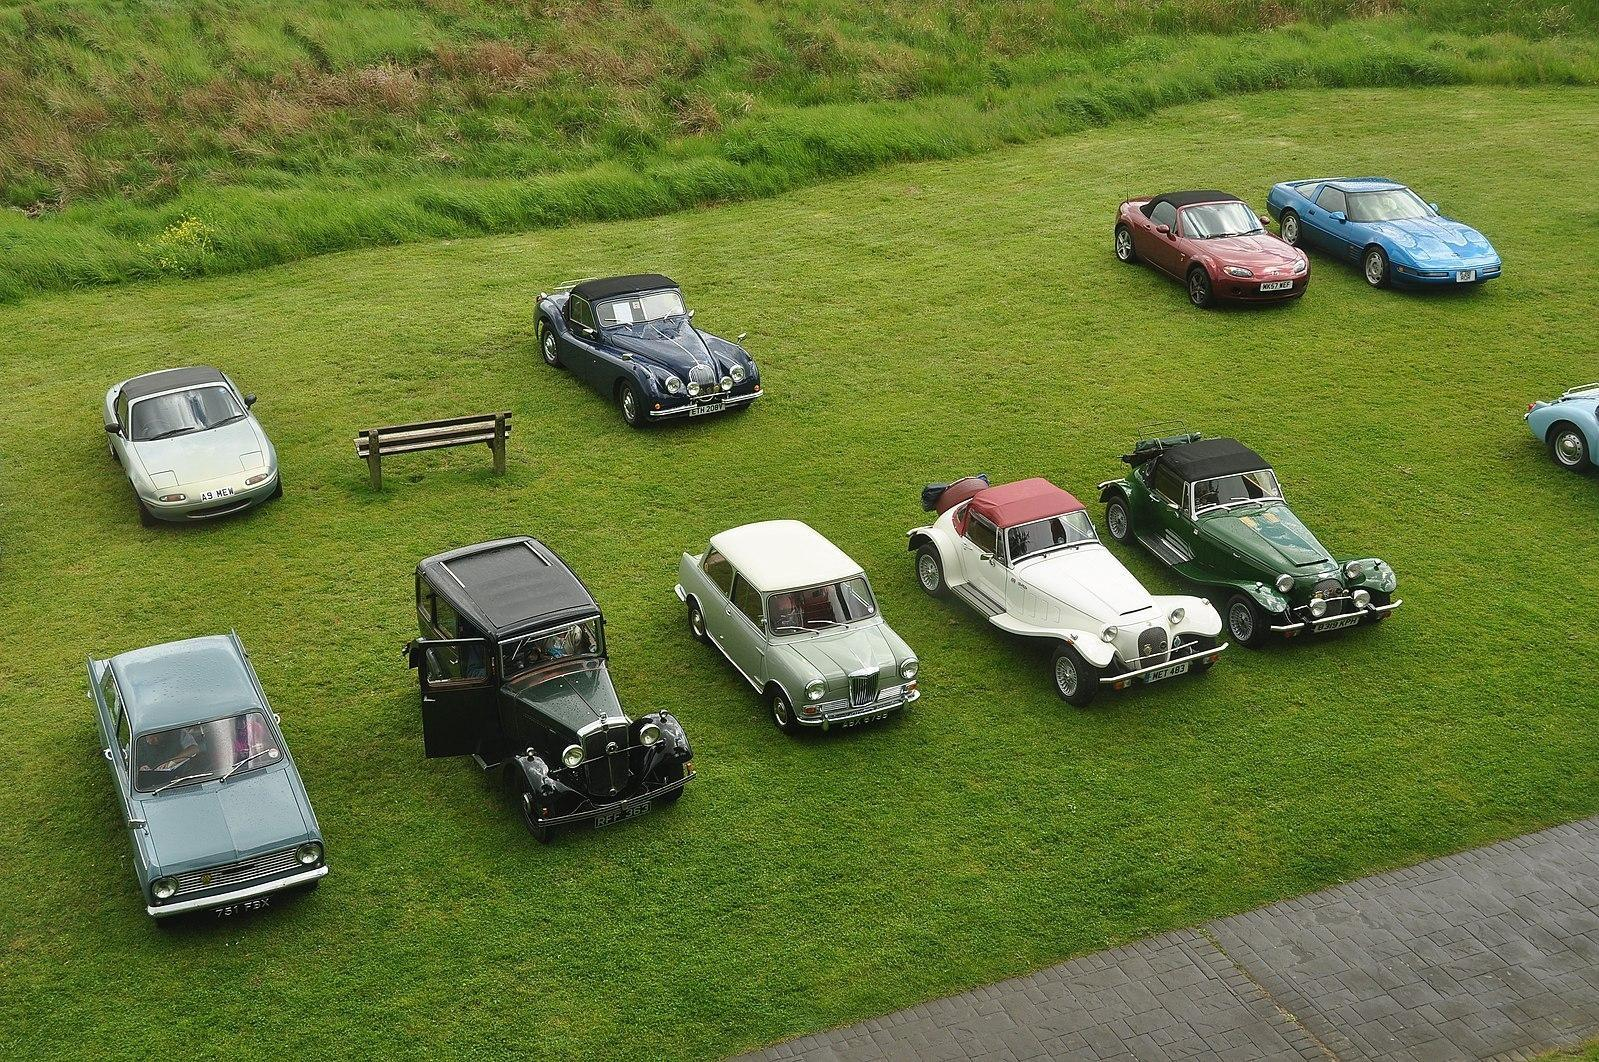Car: (398, 530, 703, 846), (77, 621, 333, 940), (903, 471, 1232, 712), (1094, 416, 1407, 652), (667, 514, 927, 740), (531, 269, 767, 430), (98, 363, 287, 530), (1264, 172, 1504, 294), (1112, 187, 1315, 311), (1514, 373, 1598, 480)
